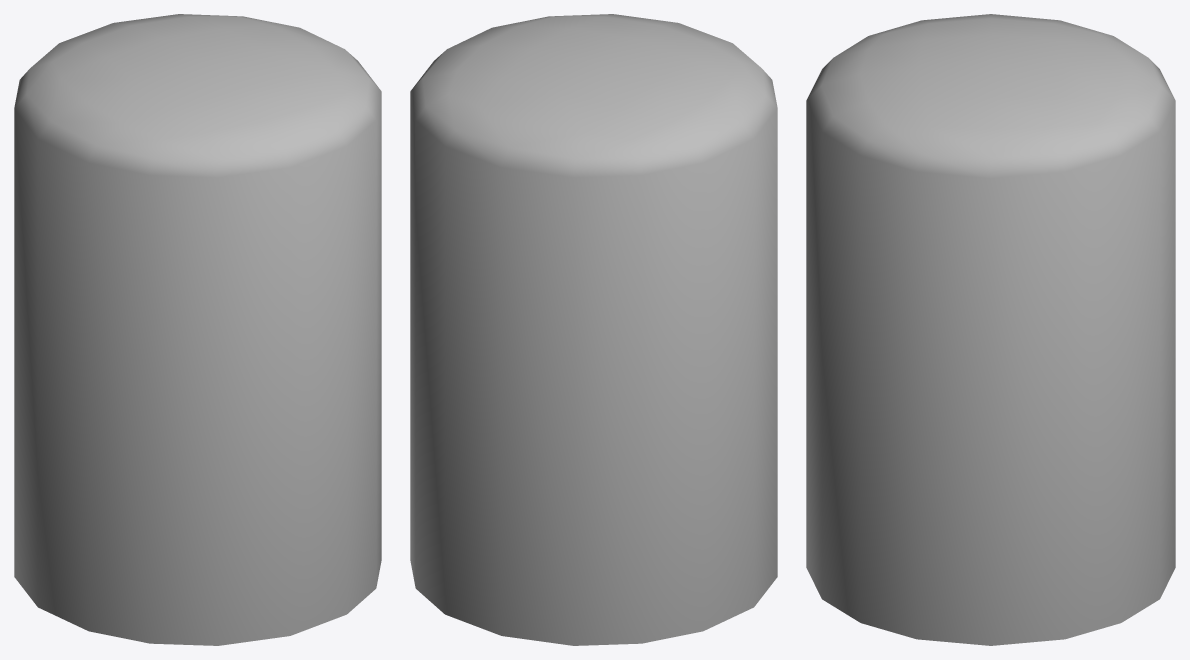
The model's file is stone.FBX.
3 views of the same model, side by side, from view 1: azimuth 30°, elevation 25°; view 2: azimuth 150°, elevation 25°; view 3: azimuth 270°, elevation 25° (orthographic).
Visible parts, largest first — view 1: obj_32; view 2: obj_32; view 3: obj_32.
Part boxes in pixels (x1,y1,x2,y2): obj_32: [14, 14, 381, 645]; obj_32: [410, 14, 777, 645]; obj_32: [806, 14, 1175, 645].
Bounding box in the file's own units: 9.66 × 14.59 × 9.66.
